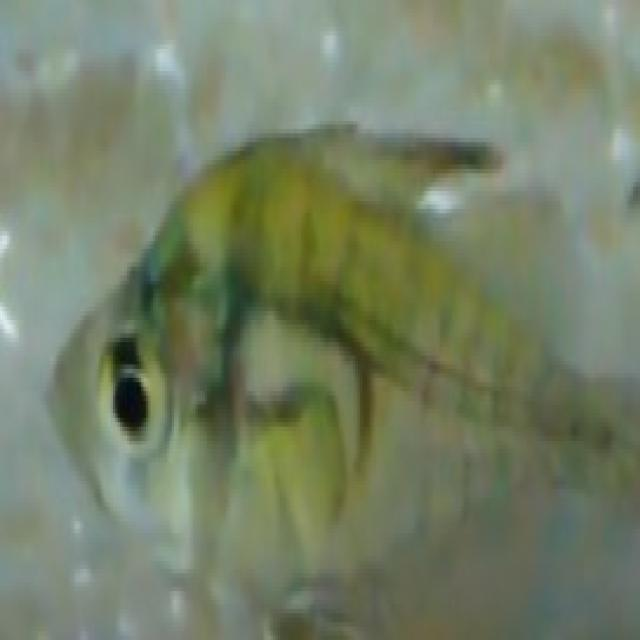Glass-Perchlet: (32, 56, 634, 626)
